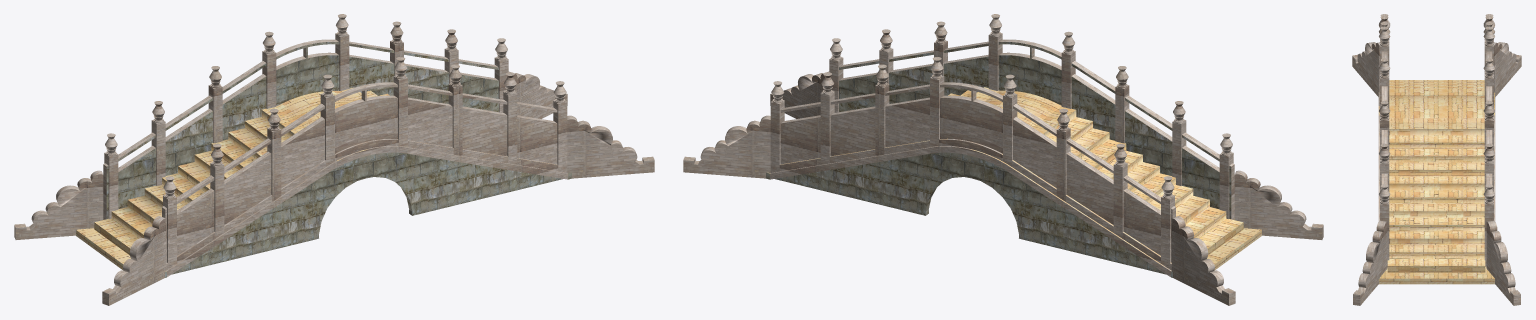
Rendered from Bridge-2.obj.
3 views of the same model, side by side, from view 1: azimuth 30°, elevation 25°; view 2: azimuth 150°, elevation 25°; view 3: azimuth 270°, elevation 25° (orthographic). The views are drawn at different scales.
Visible parts, largest first — view 1: Obj3d66_688138_284_92_网格.643, 2_Obj3d66_688138_292_204_网格.651, 1_Obj3d66_688138_279_743_网格.638; view 2: Obj3d66_688138_284_92_网格.643, 2_Obj3d66_688138_292_204_网格.651, 1_Obj3d66_688138_279_743_网格.638; view 3: 1_Obj3d66_688138_279_743_网格.638, Obj3d66_688138_284_92_网格.643.
Part boxes in pixels (box(x1,y1,x2,y2)): Obj3d66_688138_284_92_网格.643: box(14, 14, 654, 305); 2_Obj3d66_688138_292_204_网格.651: box(76, 42, 571, 277); 1_Obj3d66_688138_279_743_网格.638: box(76, 87, 554, 271); Obj3d66_688138_284_92_网格.643: box(683, 14, 1323, 305); 2_Obj3d66_688138_292_204_网格.651: box(766, 42, 1231, 277); 1_Obj3d66_688138_279_743_网格.638: box(768, 87, 1261, 270); 1_Obj3d66_688138_279_743_网格.638: box(1378, 80, 1494, 284); Obj3d66_688138_284_92_网格.643: box(1352, 14, 1521, 305).
Bounding box in the file's own units: 6.22 × 1.71 × 1.85.
Materials: 3 (3 with a texture image).
